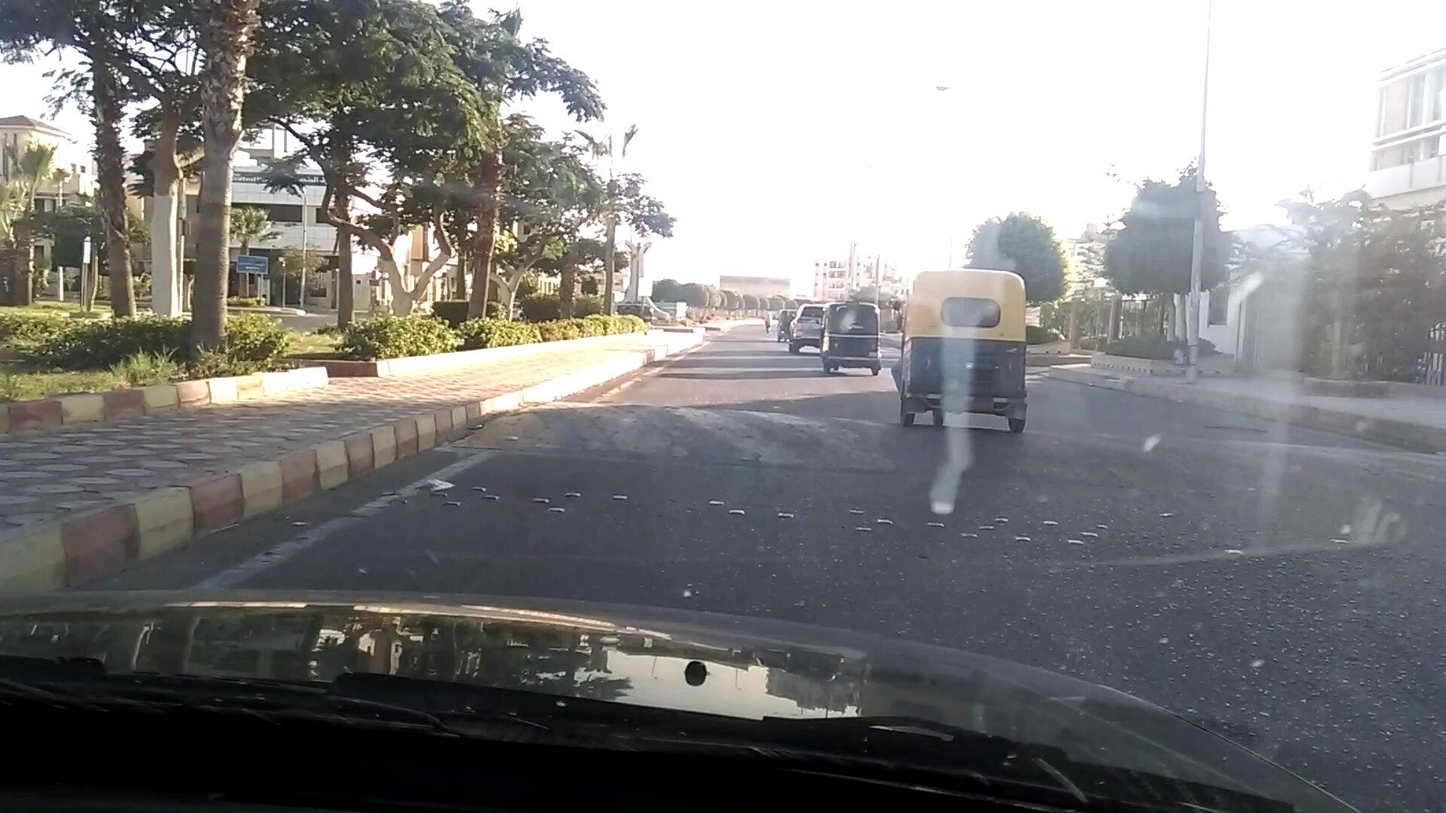Bump: (436, 399, 1445, 507)
